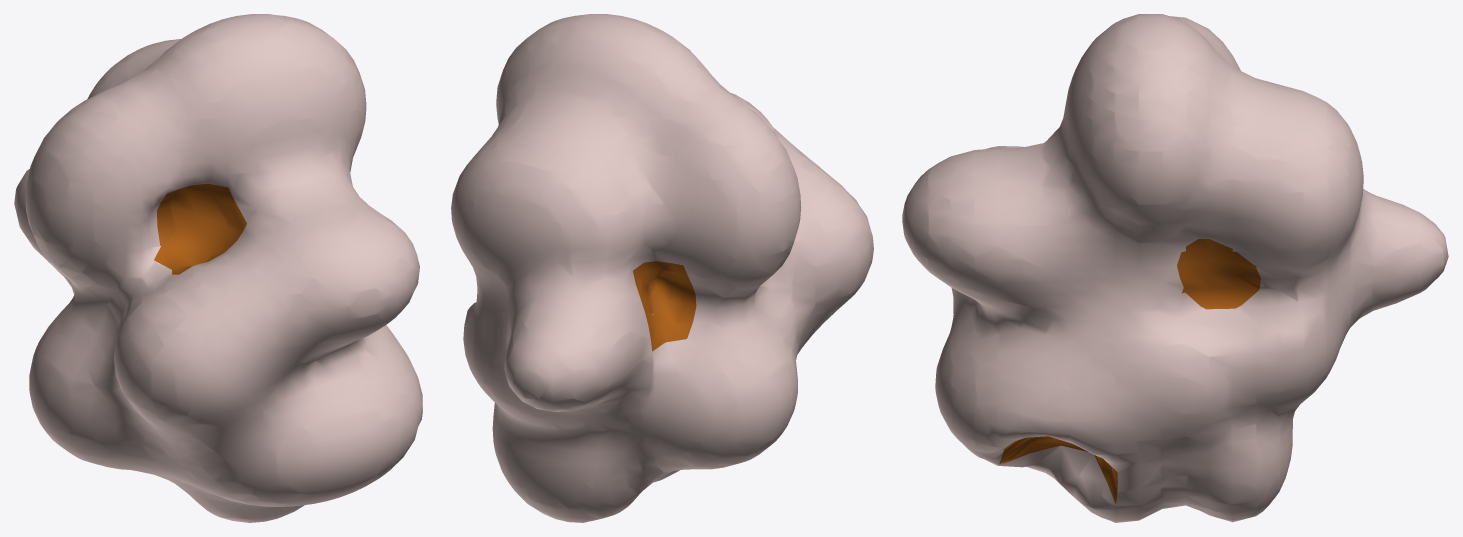
File: pop002.fbx
The picture shows the model from 3 angles, left to right: view 1: azimuth 30°, elevation 25°; view 2: azimuth 150°, elevation 25°; view 3: azimuth 270°, elevation 25°; orthographic projection. The views are drawn at different scales.
Parts seen in each view (by area): view 1: POPCORN_002; view 2: POPCORN_002; view 3: POPCORN_002.
Boxes of the visible parts, bbox=[...] form: POPCORN_002: bbox=[14, 14, 422, 522]; POPCORN_002: bbox=[451, 14, 873, 522]; POPCORN_002: bbox=[902, 14, 1448, 522].
Size of the model in its own units: 256 by 374 by 382.
